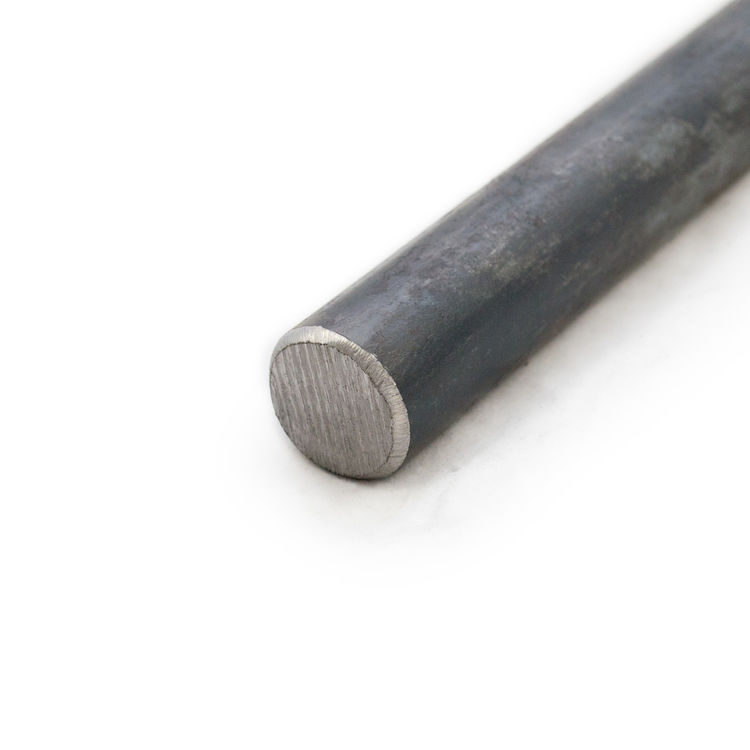metal: (267, 1, 750, 485)
